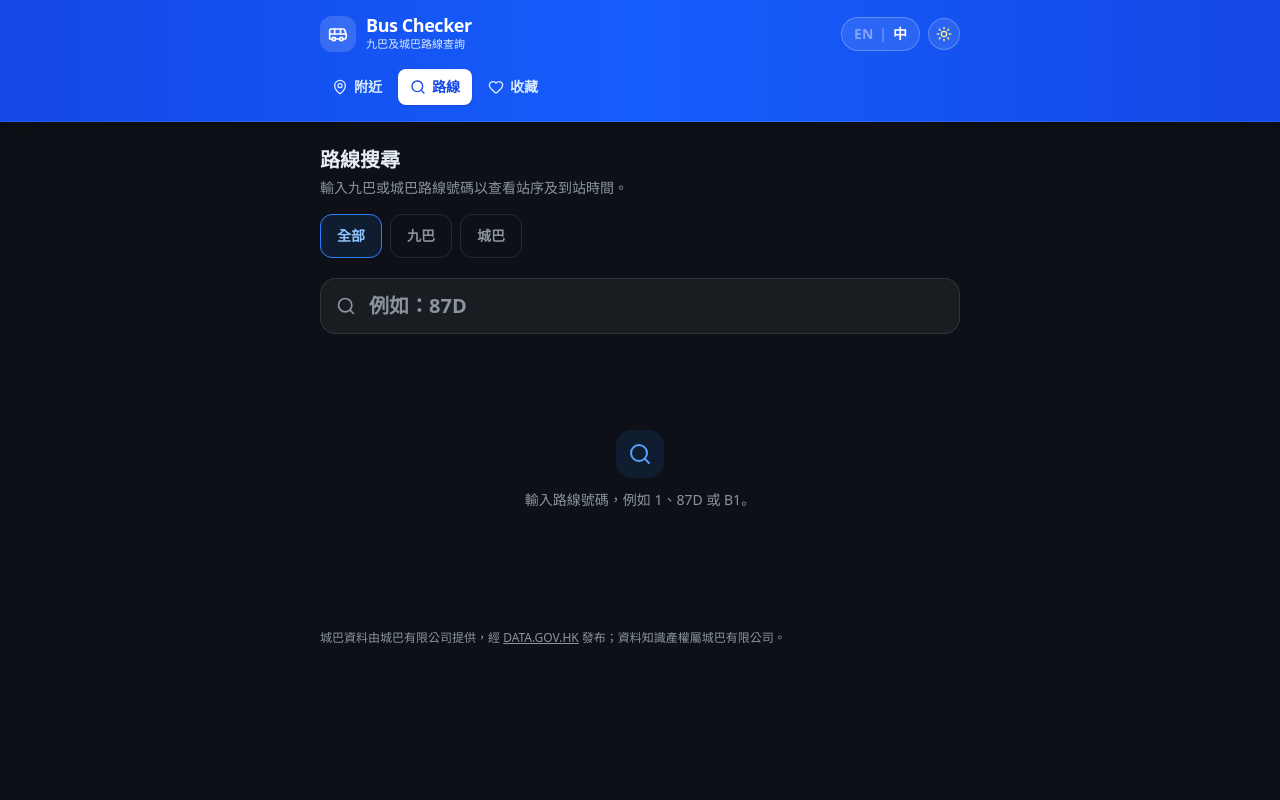
Test: RouteSearchPage › retries a failed search and explains when results are capped
The image size is (1280, 800).
Type "1" into the field named "搜尋路線號碼" at point(640, 306), box [320, 278, 960, 334]
Wait 180 ms
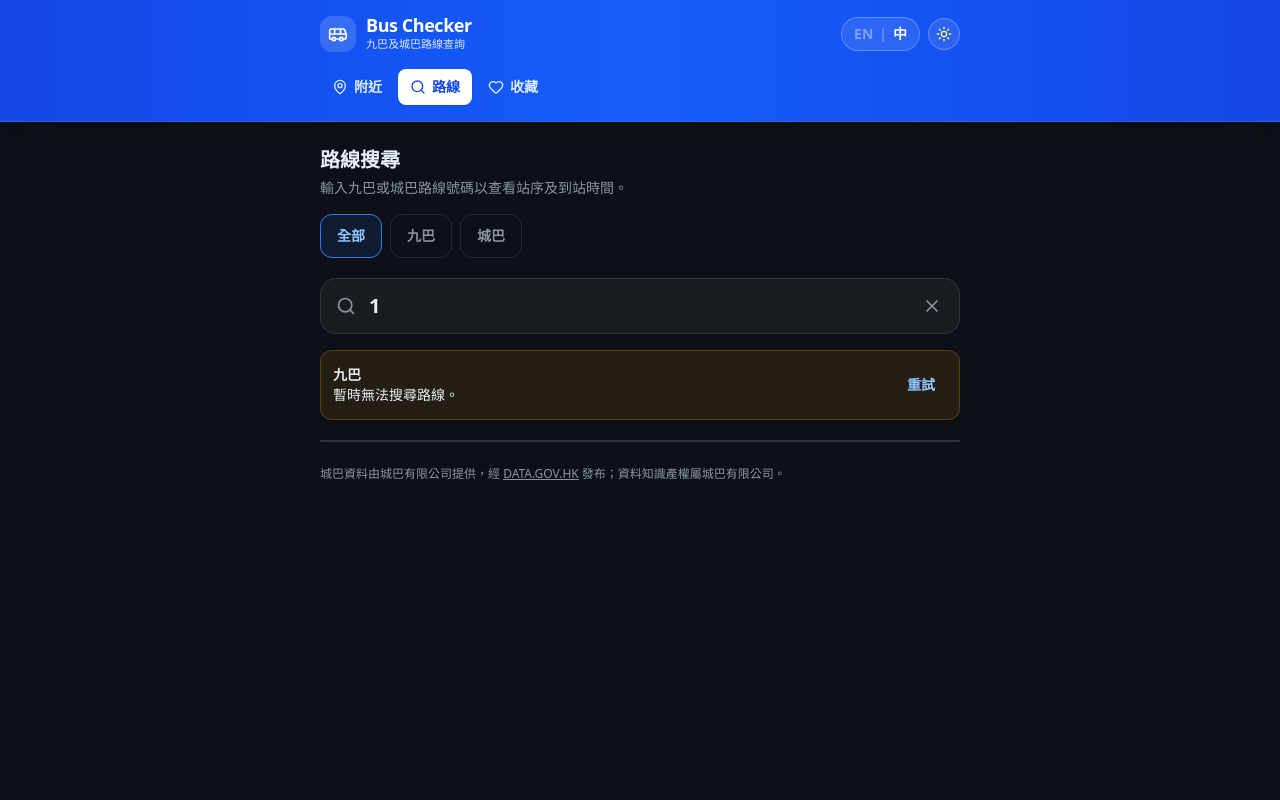
Now the text "暫時無法搜尋路線。" is shown, box [333, 384, 459, 404]
Click the button "重試" at point(921, 384), box [895, 362, 947, 406]
Wait 180 ms
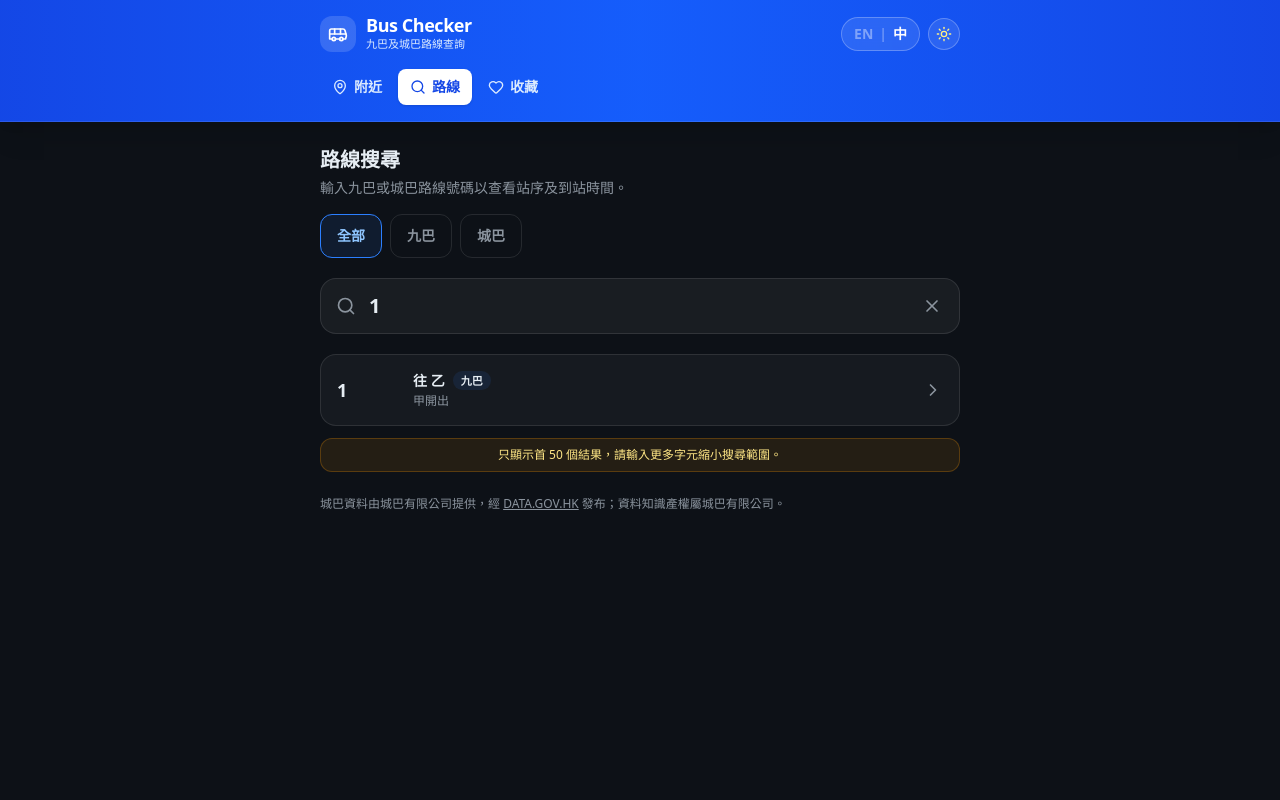
Now the text "只顯示首 50 個結果，請輸入更多字元縮小搜尋範圍。" is shown, box [320, 438, 960, 472]
